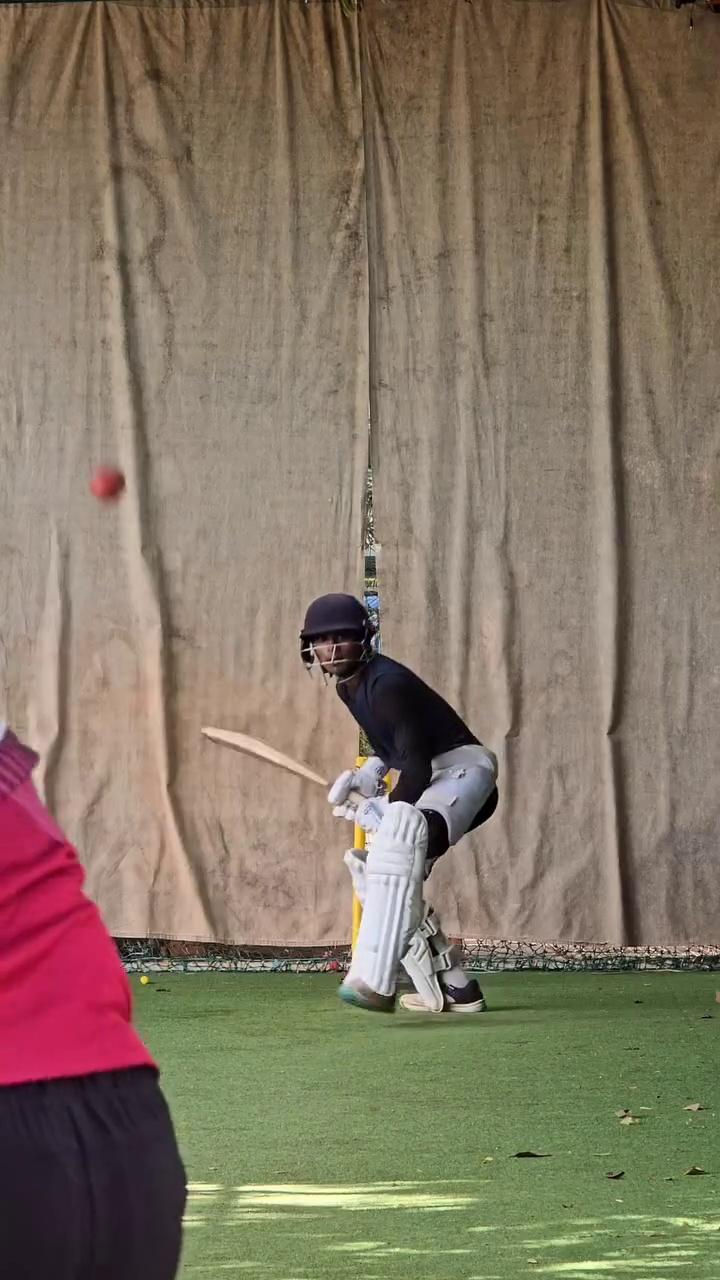bat: (195, 707, 338, 797)
